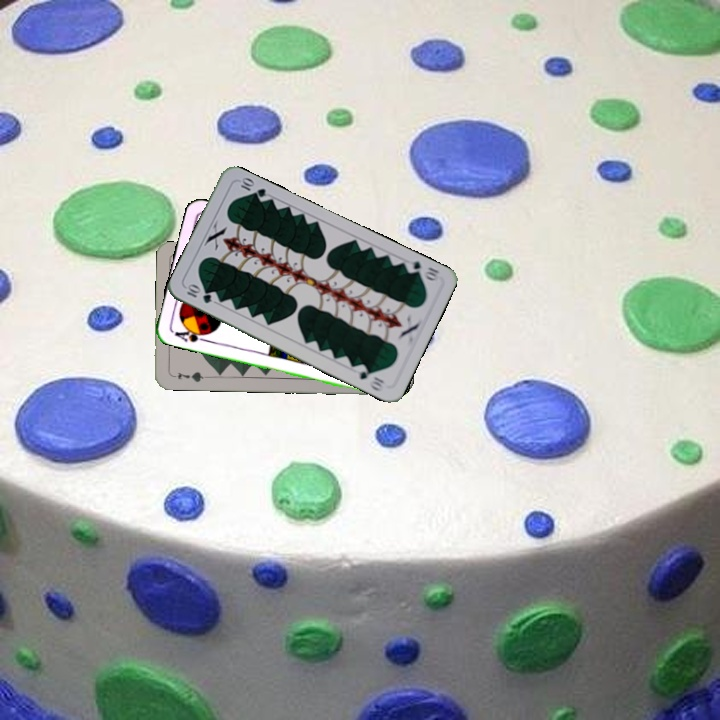G10: (401, 257, 442, 284), (182, 281, 214, 306)
G7: (174, 368, 208, 385)
SA: (169, 324, 210, 345)
